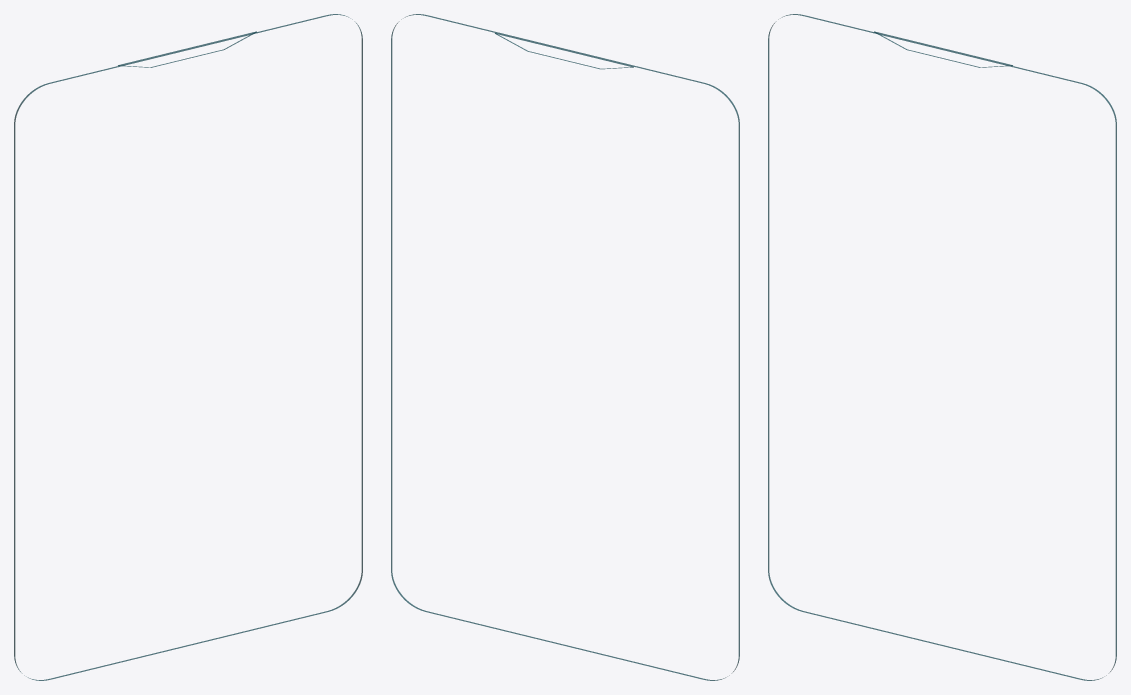
Rendered from original-34.obj.
The picture shows the model from 3 angles, left to right: view 1: azimuth 30°, elevation 25°; view 2: azimuth 150°, elevation 25°; view 3: azimuth 330°, elevation 25°; orthographic projection.
Parts seen in each view (by area): view 1: mesh20/mesh20-geometry/material_1/component_5#mesh20-geometry; view 2: mesh20/mesh20-geometry/material_1/component_5#mesh20-geometry; view 3: mesh20/mesh20-geometry/material_1/component_5#mesh20-geometry.
Part boxes in pixels (x1=…): mesh20/mesh20-geometry/material_1/component_5#mesh20-geometry: x1=14, y1=14, x2=362, y2=680; mesh20/mesh20-geometry/material_1/component_5#mesh20-geometry: x1=391, y1=14, x2=739, y2=680; mesh20/mesh20-geometry/material_1/component_5#mesh20-geometry: x1=768, y1=14, x2=1116, y2=680.
Size of the model in its own units: 0.9594 by 1.57 by 0.0101.
